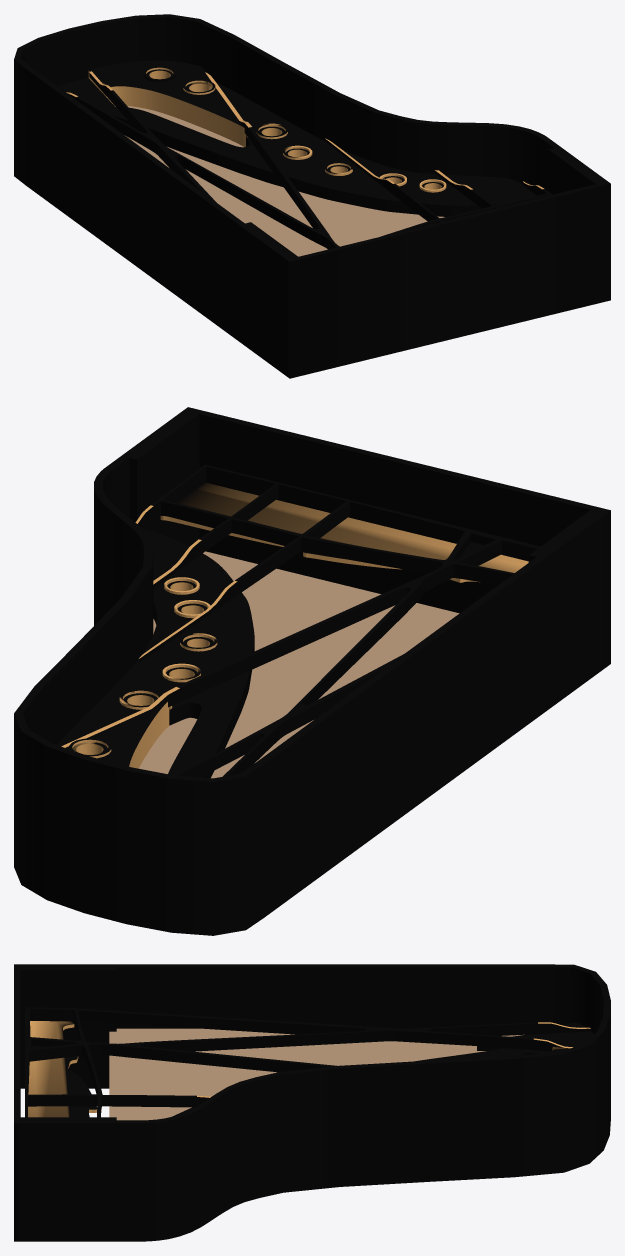
File: CenarioInicial2.fbx
The picture shows the model from 3 angles, top to bottom: view 1: azimuth 30°, elevation 25°; view 2: azimuth 150°, elevation 25°; view 3: azimuth 270°, elevation 25°; orthographic projection. The views are drawn at different scales.
Visible parts, largest first — view 1: Piano, Estrutura, Estrutura2, Box004; view 2: Piano, Estrutura, Estrutura2, Box004; view 3: Piano, Estrutura2, Box004, Estrutura.
Boxes of the visible parts, x1,y1,x2,y2 form: Piano: [14, 14, 610, 378]; Estrutura: [58, 60, 536, 216]; Estrutura2: [66, 71, 552, 249]; Box004: [115, 106, 444, 256]; Piano: [14, 407, 610, 935]; Estrutura: [56, 482, 528, 778]; Estrutura2: [61, 464, 540, 777]; Box004: [139, 551, 459, 778]; Piano: [14, 964, 610, 1241]; Estrutura2: [25, 1007, 590, 1117]; Box004: [109, 1028, 524, 1120]; Estrutura: [28, 1021, 593, 1117].
Size of the model in its own units: 56.69 by 19.69 by 90.03.
